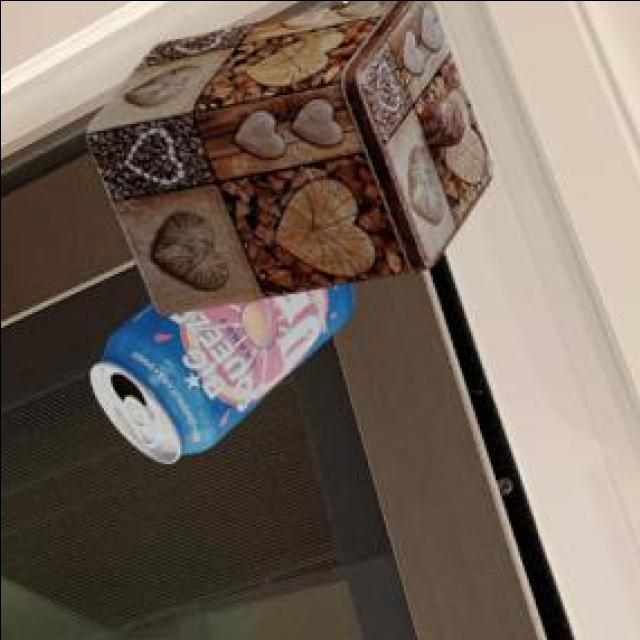logam: (91, 0, 493, 319), (93, 285, 357, 467)
